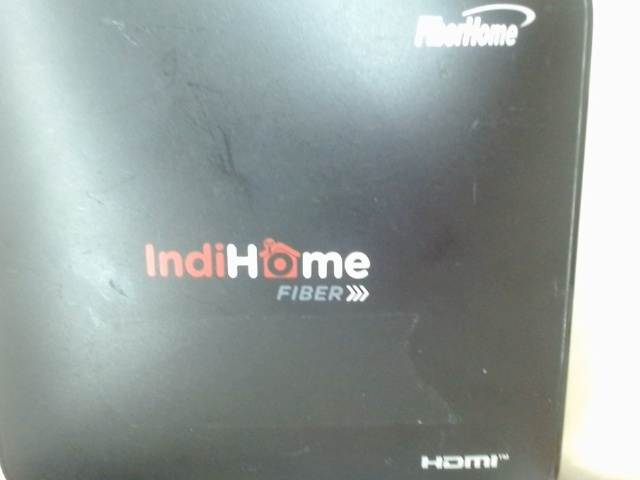AF_IndiHome: (133, 233, 382, 317)
